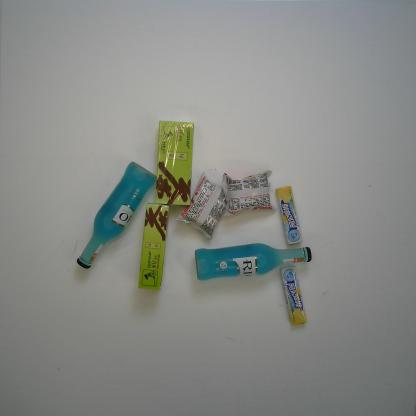Alcohol: (76, 161, 156, 270), (194, 243, 312, 281)
Candy: (276, 185, 303, 245), (281, 265, 307, 325)
Dessert: (176, 170, 228, 240), (221, 169, 276, 217)
Instant Drink: (155, 120, 195, 206), (138, 203, 170, 291)
